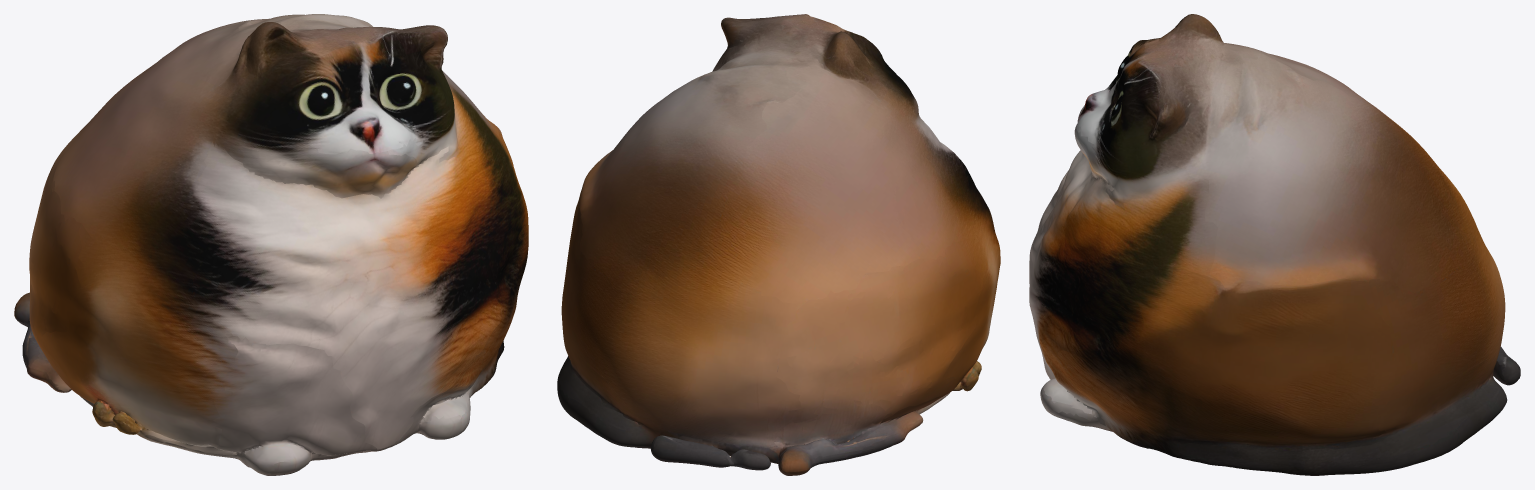
The model's file is kot.fbx.
3 renders of one model, left to right at view 1: azimuth 30°, elevation 25°; view 2: azimuth 150°, elevation 25°; view 3: azimuth 270°, elevation 25°, orthographic. The views are drawn at different scales.
Visible parts, largest first — view 1: textured_mesh.obj; view 2: textured_mesh.obj; view 3: textured_mesh.obj.
Part boxes in pixels (x1,y1,x2,y2): textured_mesh.obj: (14, 14, 528, 475); textured_mesh.obj: (557, 14, 1000, 475); textured_mesh.obj: (1029, 14, 1520, 475).
Size of the model in its own units: 189 by 159 by 199.
1 material, 1 textured.
